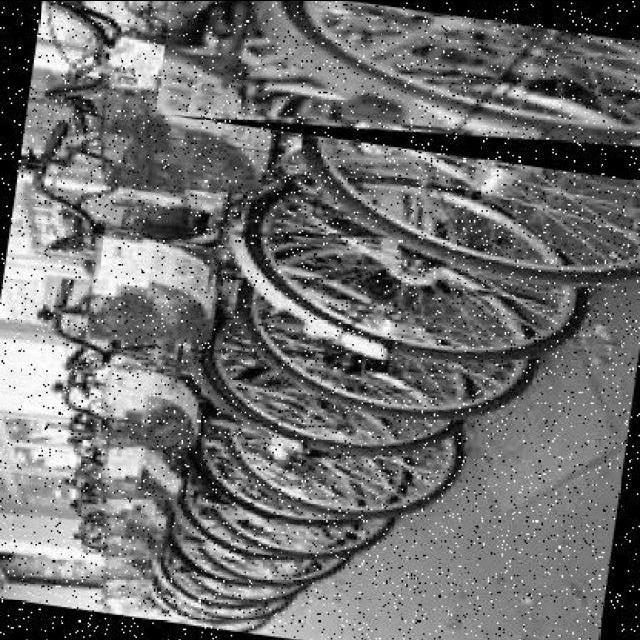bicycle: (157, 3, 640, 187)
